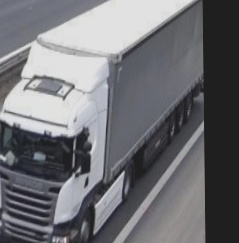truck: (0, 0, 206, 243)
